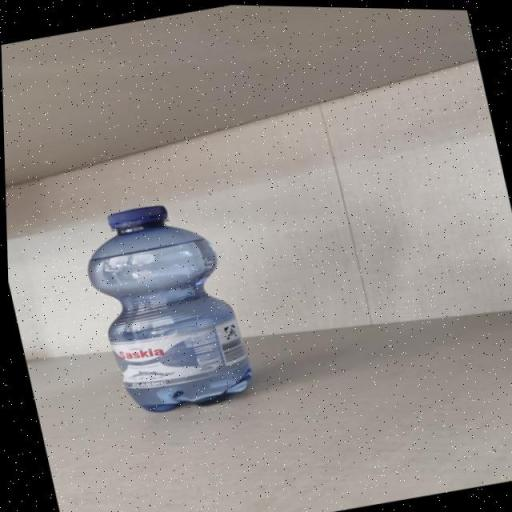plastic: (72, 188, 262, 424)
